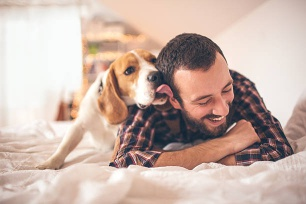male: (182, 52, 240, 140)
